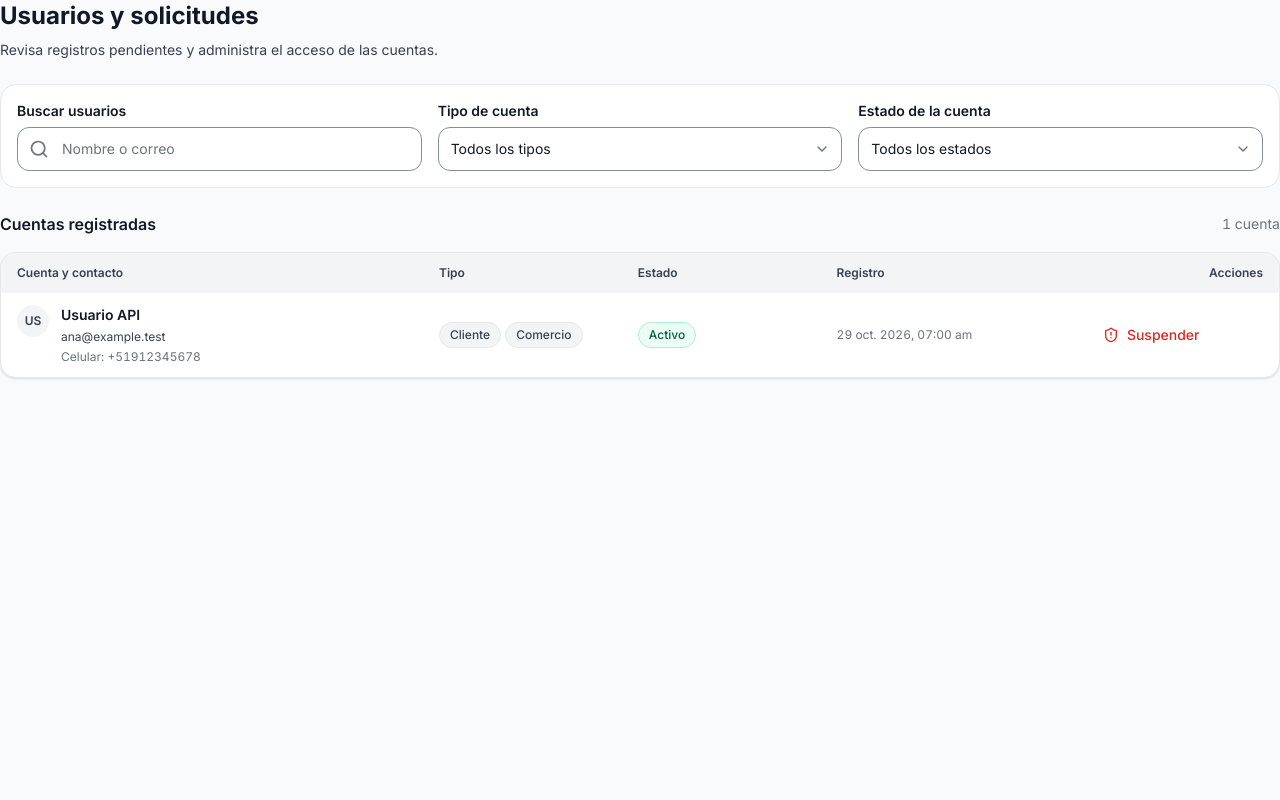
Test: comprueba con GET el estado y motivo antes de cerrar
Click the button "Suspender".
click(1151, 335)  # box [1039,313,1263,357]
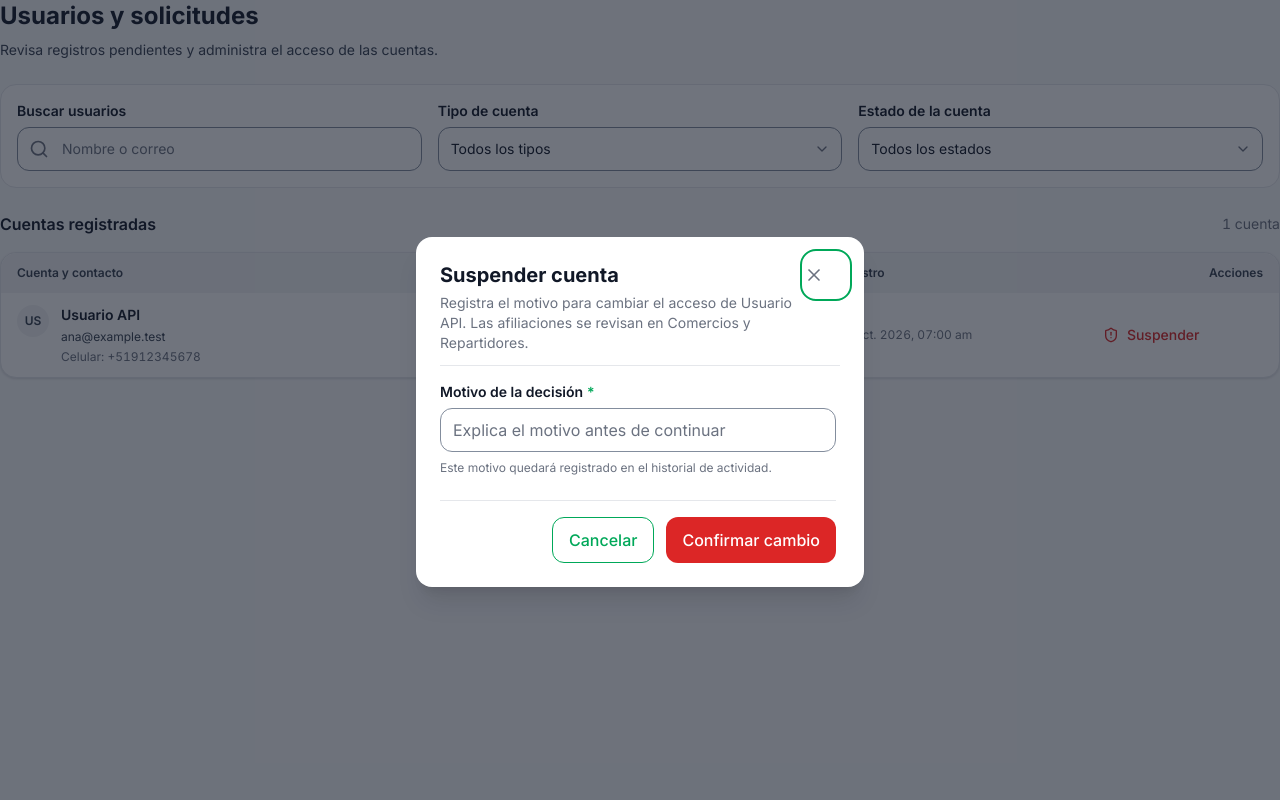
Type "Revisión de acceso" into the field labelled "Motivo de la decisión*".
click(638, 430); type("Revisión de acceso")  # box [440,408,836,452]
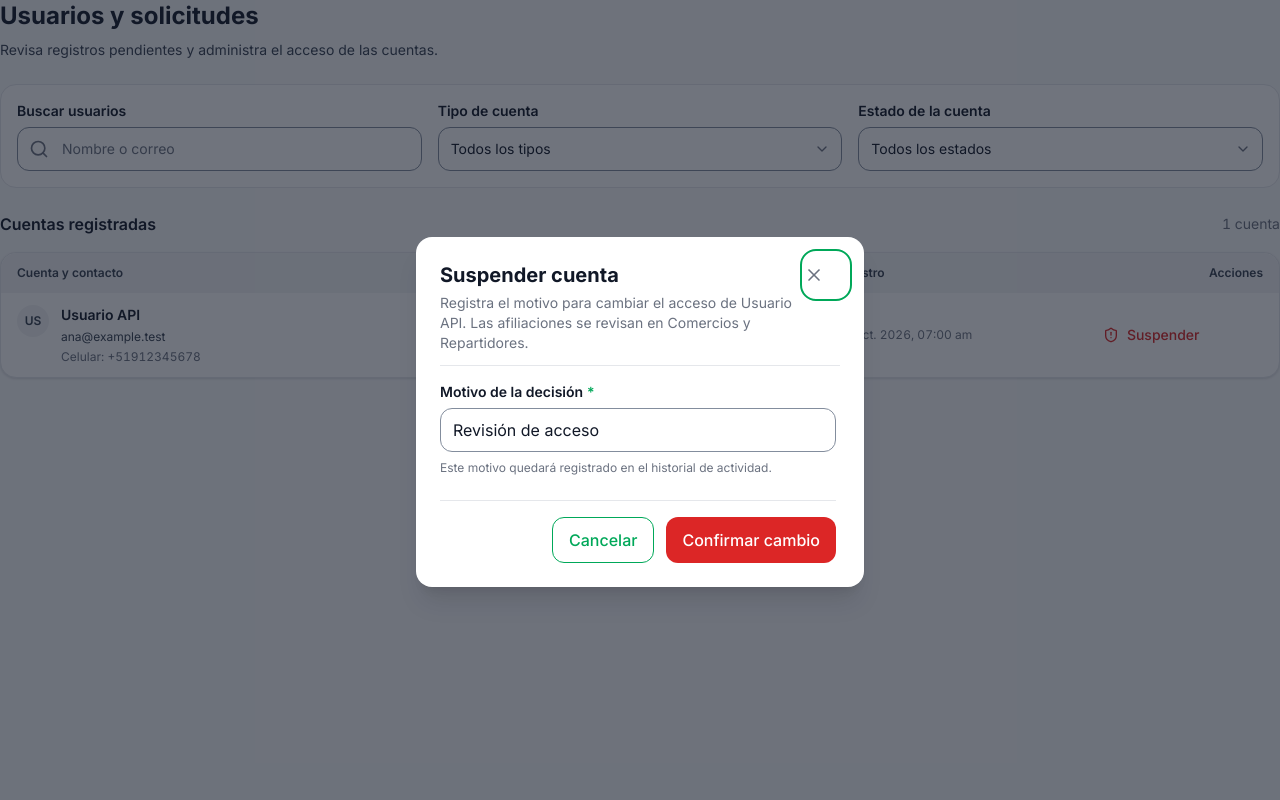
Click the button "Confirmar cambio".
click(751, 540)  # box [666,517,836,563]
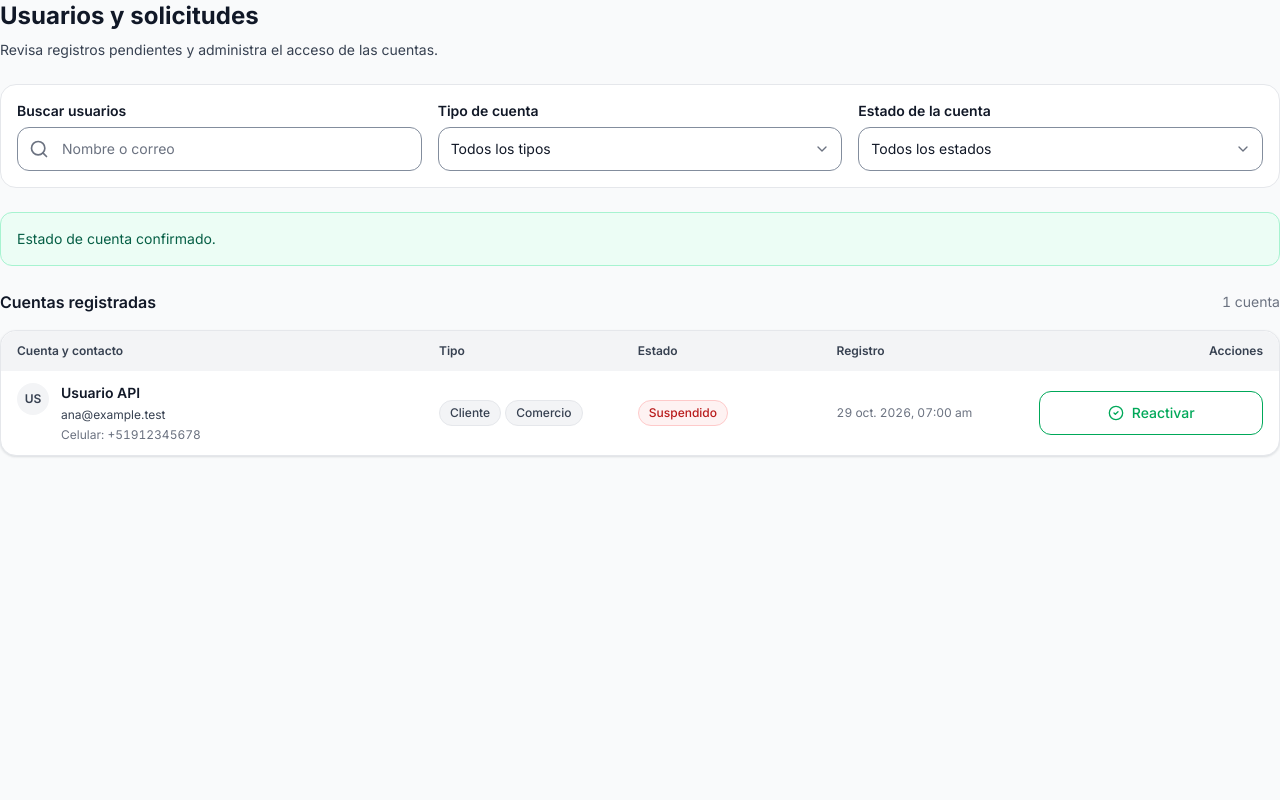
Expected: the text "Estado de cuenta confirmado." is shown, [0,212,1279,266]
Expected: the dialog is gone
